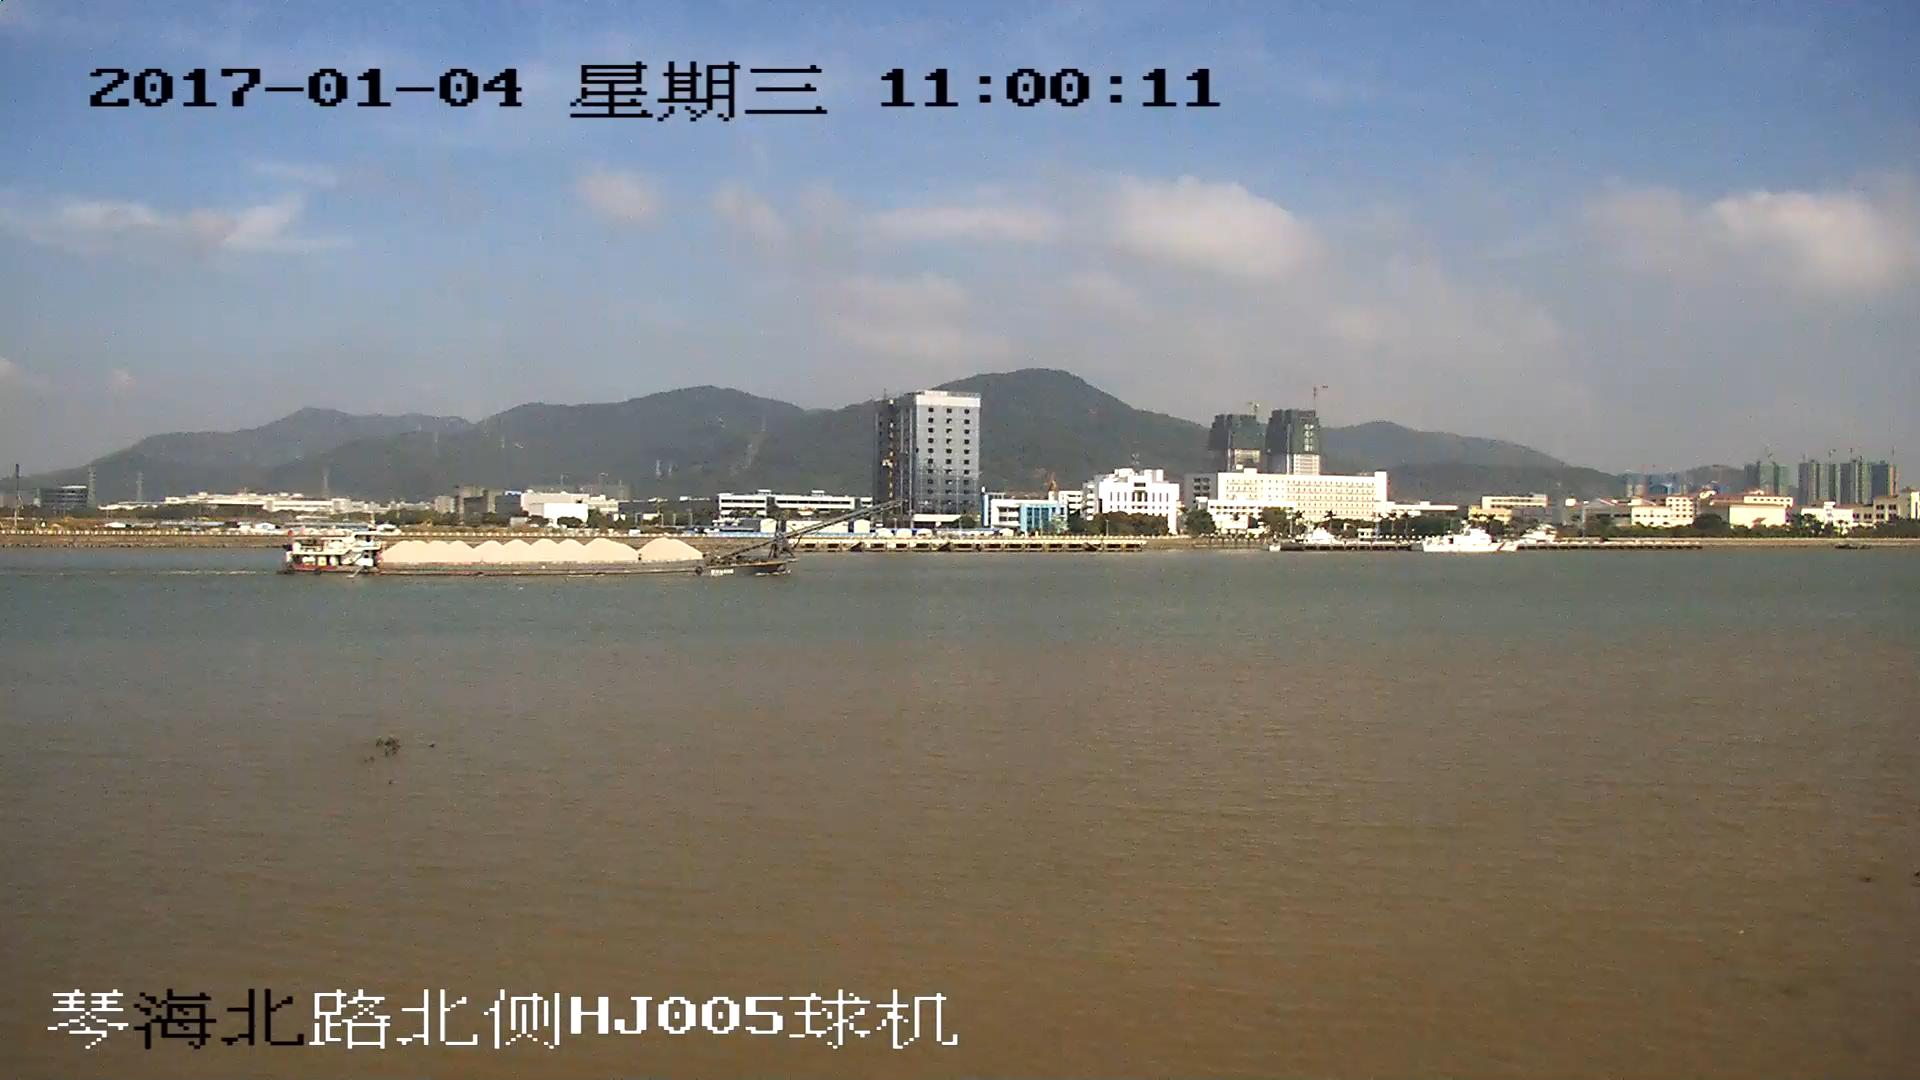ore carrier: (291, 500, 897, 577)
